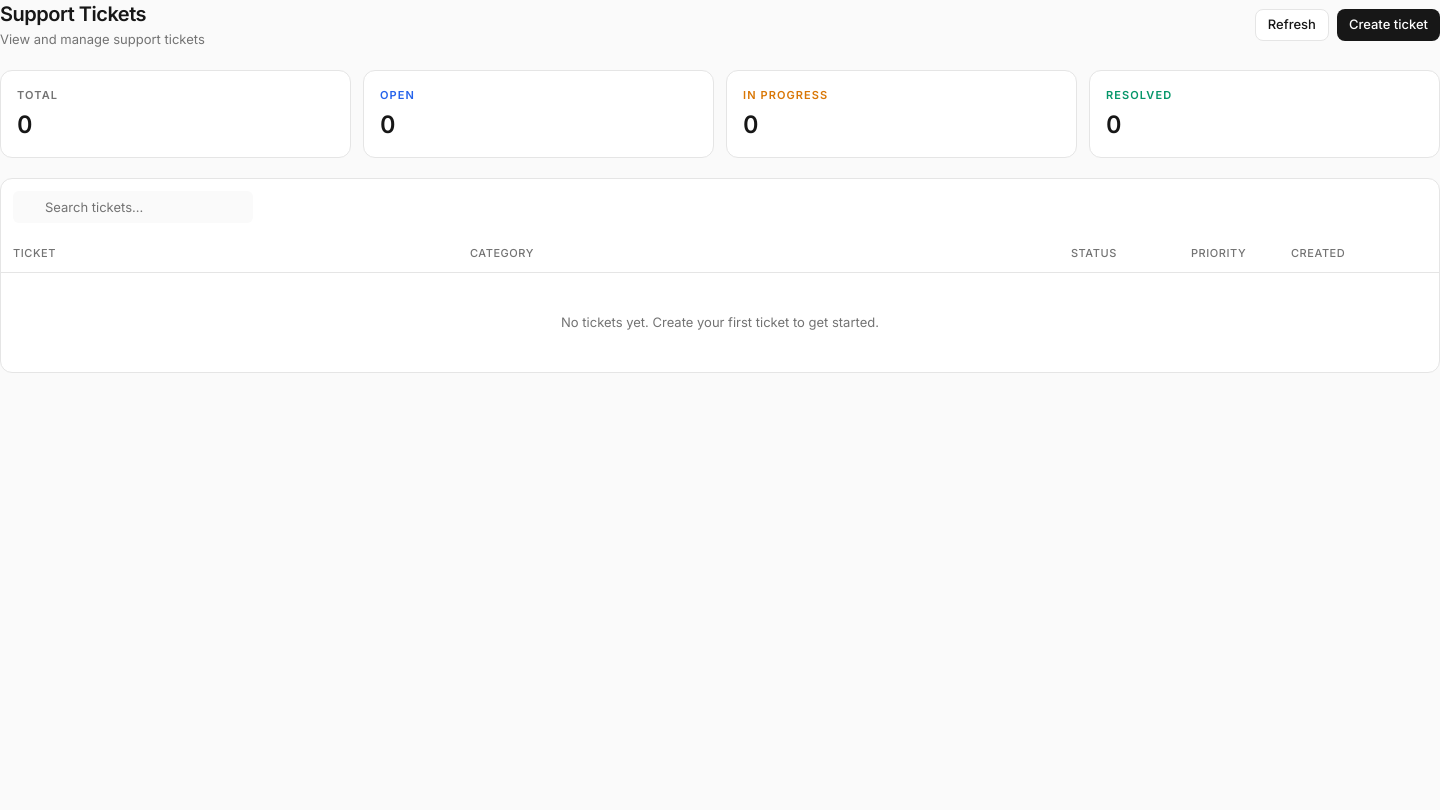
Test: SupportTicketsPage › shows min-length validation errors for short inputs
// Open modal
Click the button "Create ticket".
click(1388, 25)  # box [1337,9,1439,41]
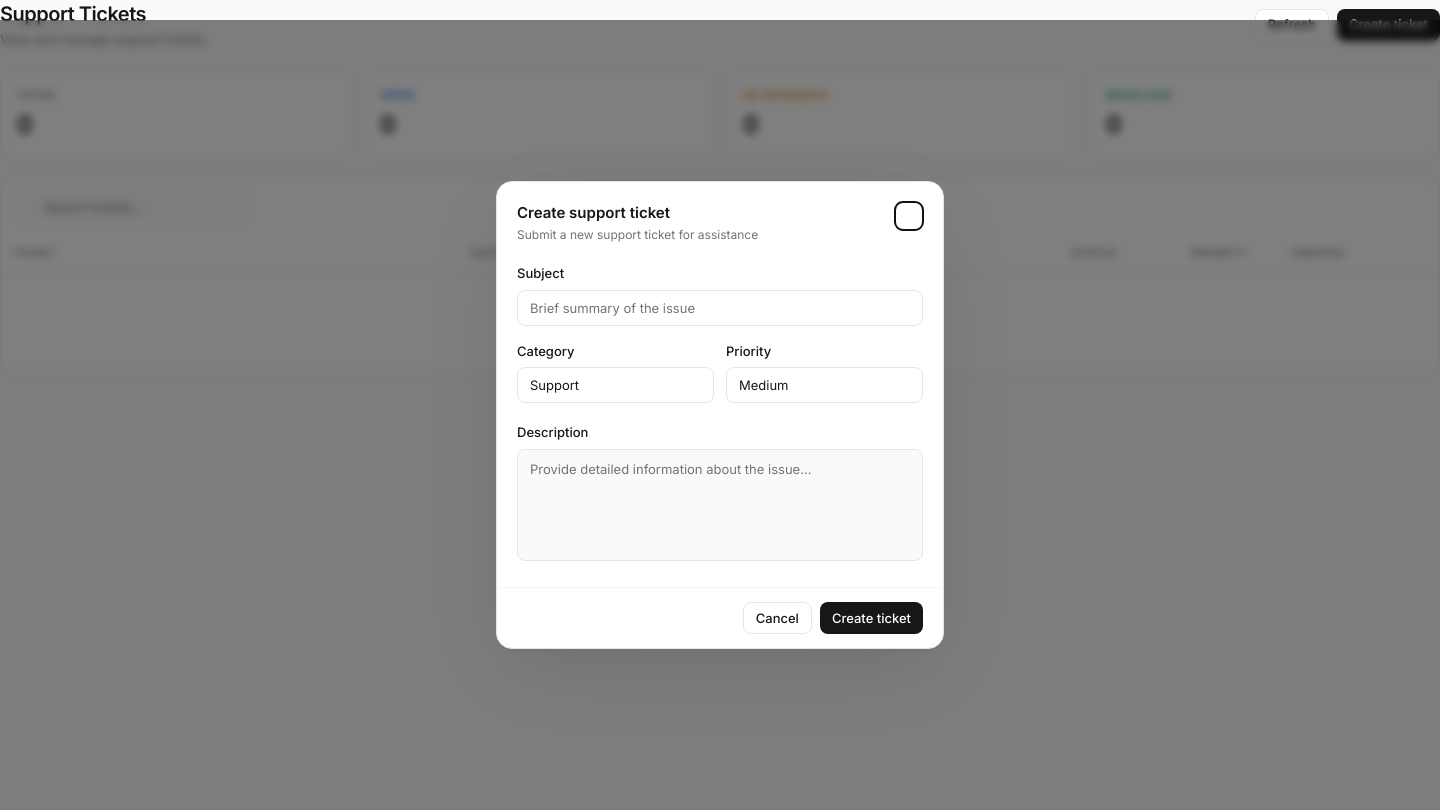
Now the heading "Create support ticket" is shown, box [517,203,670,222]
// Type short values
Type "AB" into the field with placeholder "Brief summary of the issue".
click(720, 308); type("AB")  # box [517,290,923,326]
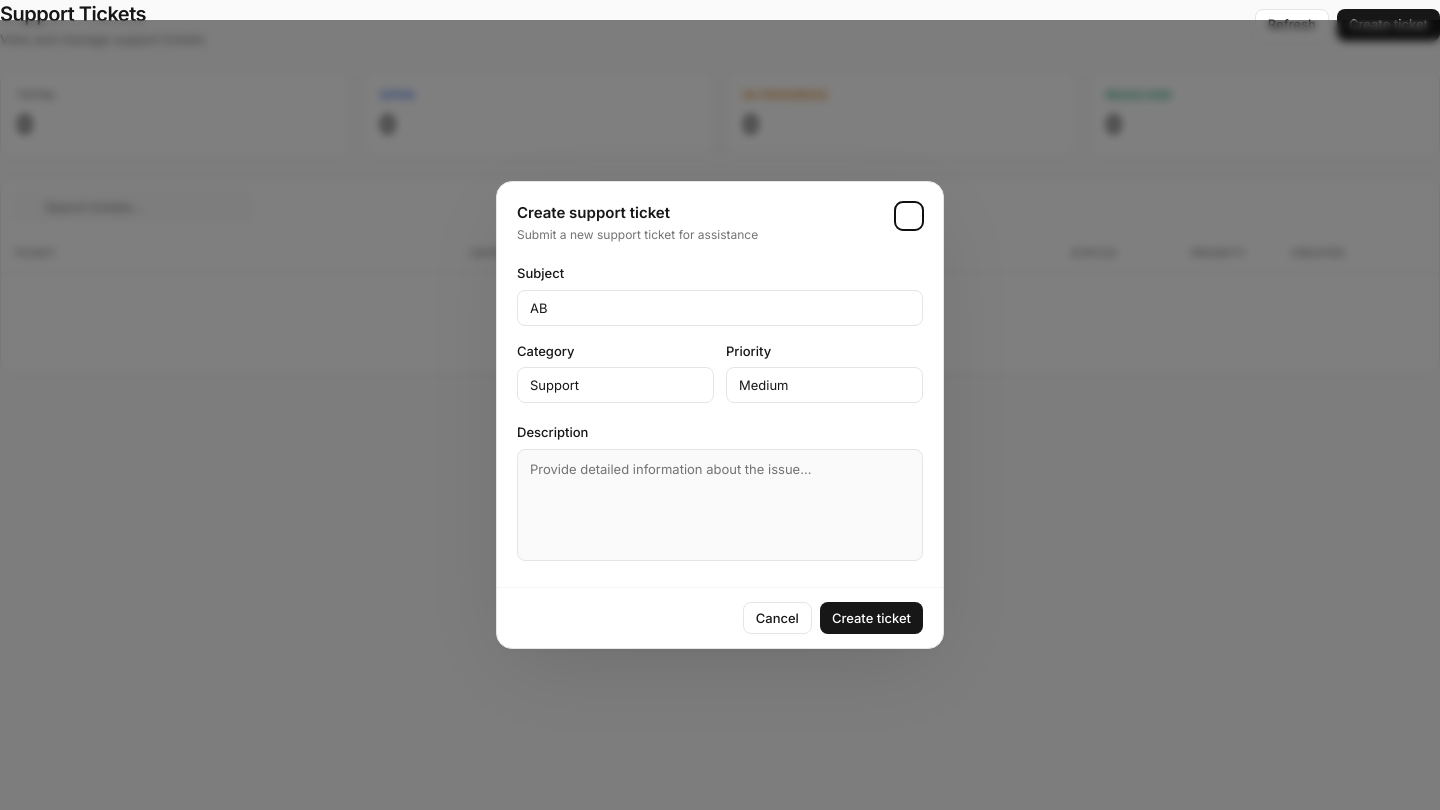
Type "Too short" into the text box with placeholder "Provide detailed information about the issue...".
click(720, 505); type("Too short")  # box [517,449,923,561]
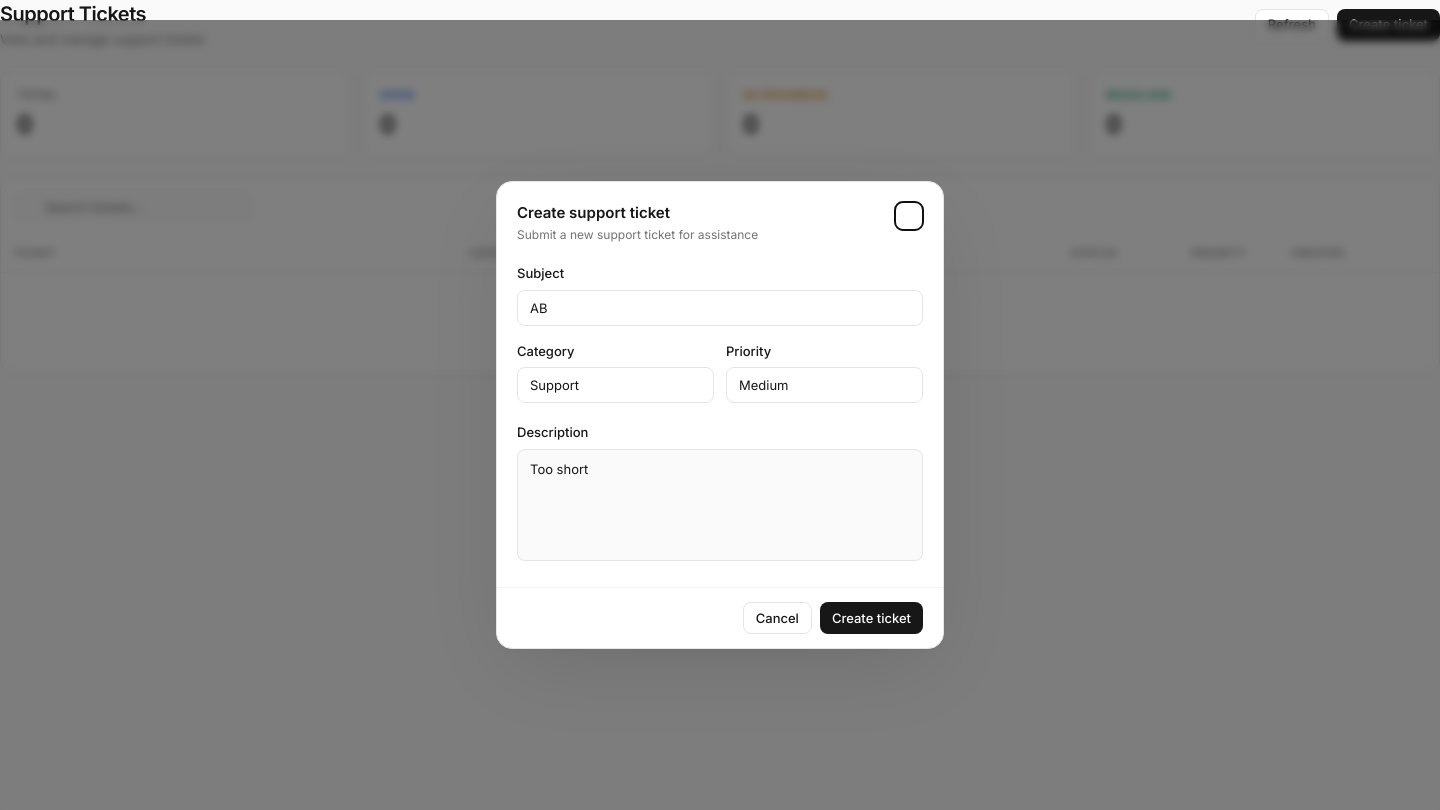
Click the button "Create ticket".
click(871, 618)  # box [820,602,923,634]
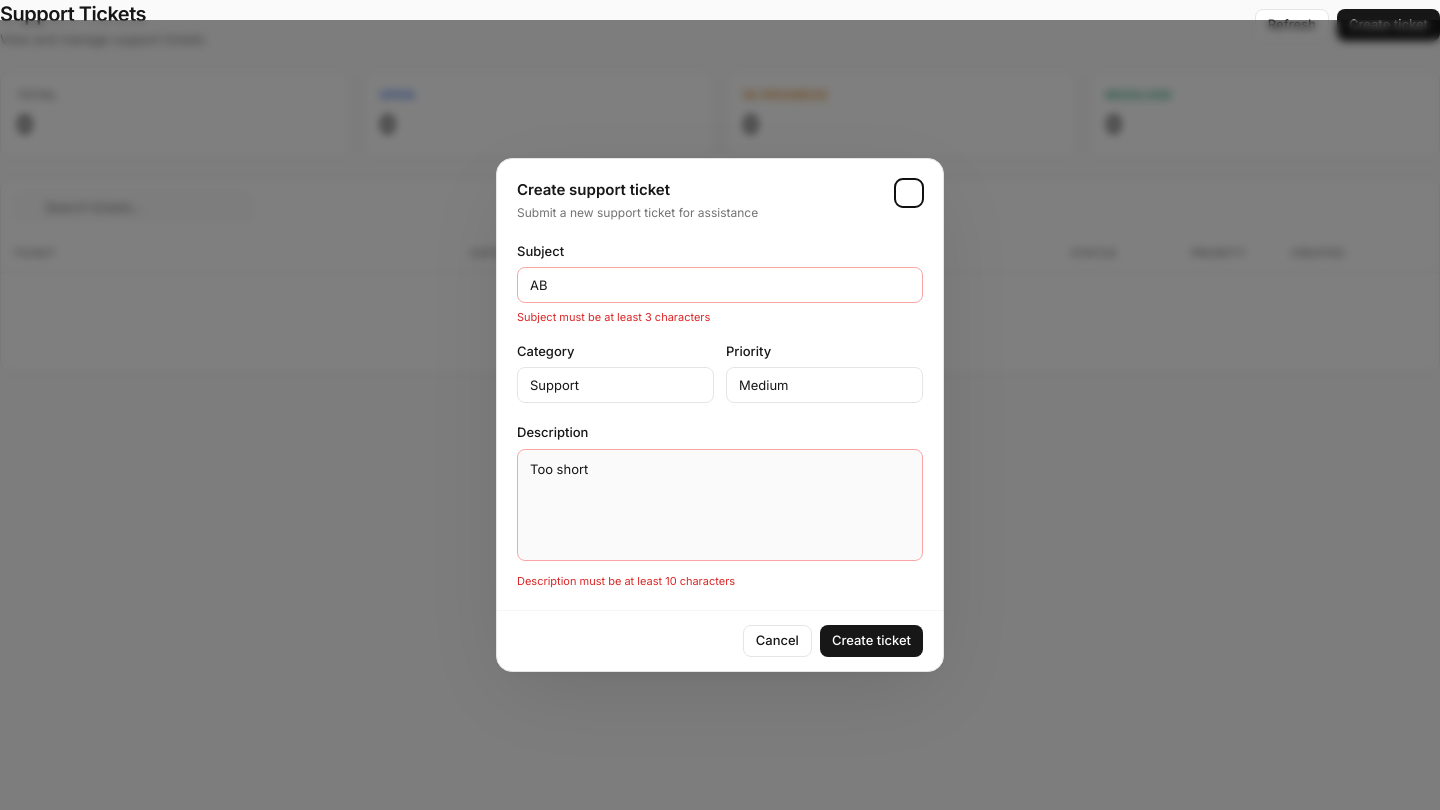
Now the text "Subject must be at least 3 characters" is shown, box [517,310,710,324]
Now the text "Description must be at least 10 characters" is shown, box [517,574,735,588]
